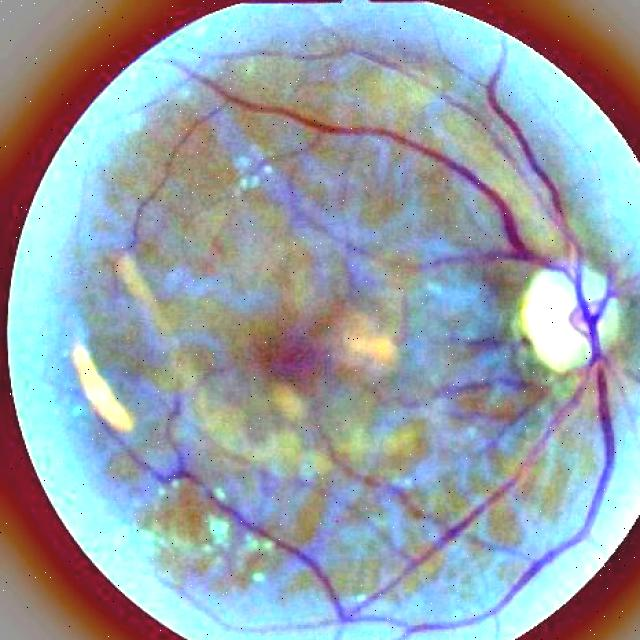Macula: (271, 334, 321, 380)
Nerves: (161, 48, 624, 640)
Optic Disk: (518, 269, 602, 374)
